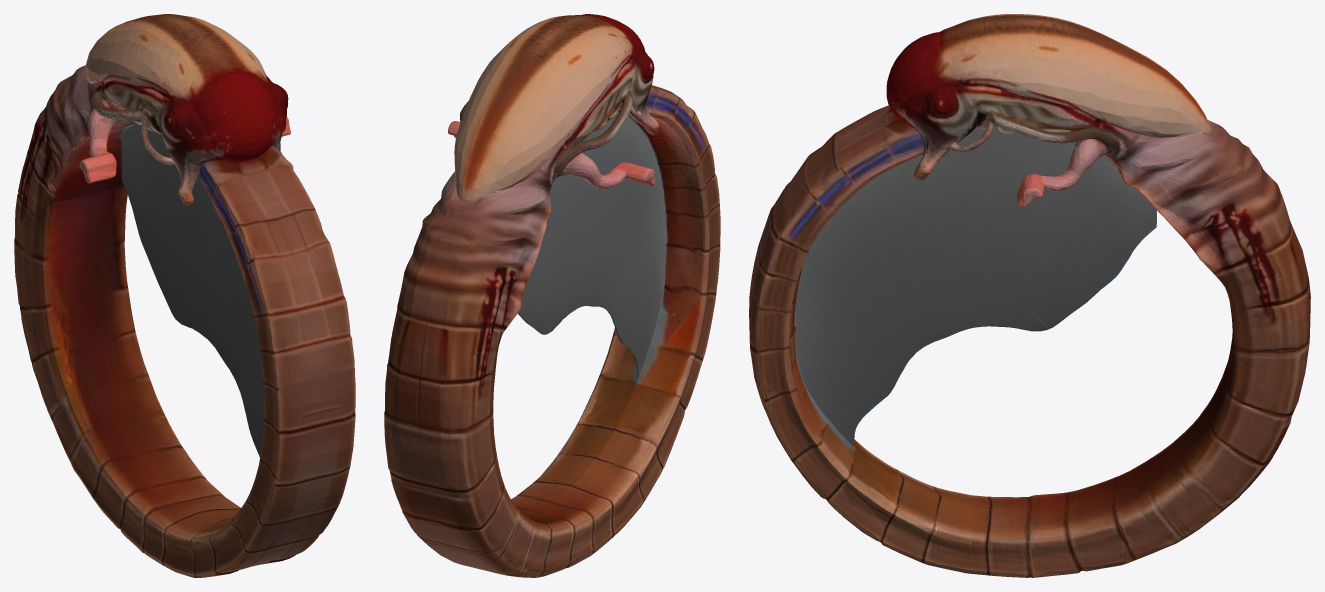
The model's file is oroborus.glb.
3 renders of one model, left to right at view 1: azimuth 30°, elevation 25°; view 2: azimuth 150°, elevation 25°; view 3: azimuth 270°, elevation 25°, orthographic. The views are drawn at different scales.
Parts seen in each view (by area): view 1: tripo_node_abfc1ce3-cc0c-466c-9603-73135dc67ebd; view 2: tripo_node_abfc1ce3-cc0c-466c-9603-73135dc67ebd; view 3: tripo_node_abfc1ce3-cc0c-466c-9603-73135dc67ebd.
Part boxes in pixels (x1=…): tripo_node_abfc1ce3-cc0c-466c-9603-73135dc67ebd: x1=14, y1=14, x2=355, y2=577; tripo_node_abfc1ce3-cc0c-466c-9603-73135dc67ebd: x1=384, y1=14, x2=720, y2=577; tripo_node_abfc1ce3-cc0c-466c-9603-73135dc67ebd: x1=749, y1=14, x2=1310, y2=577.
Size of the model in its own units: 0.4068 by 0.9998 by 0.9437.
Materials: 1 (1 with a texture image).
